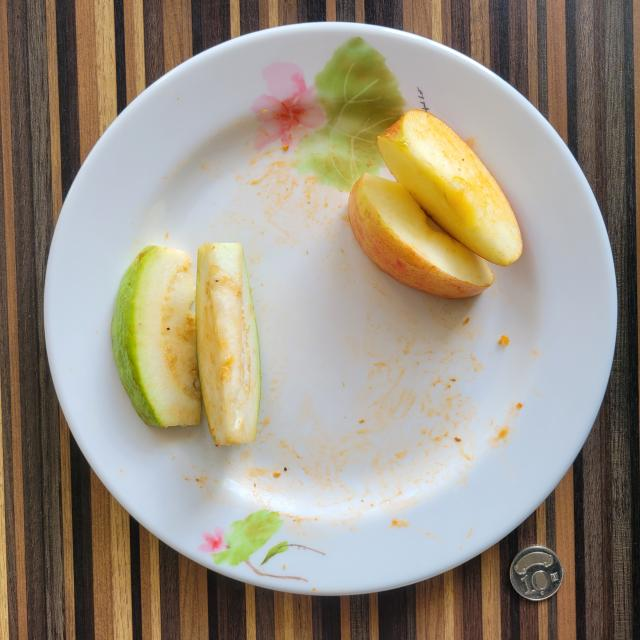apple -sliced-: (348, 109, 522, 298)
coin: (510, 545, 564, 600)
guava -sliced-: (111, 242, 261, 445)
